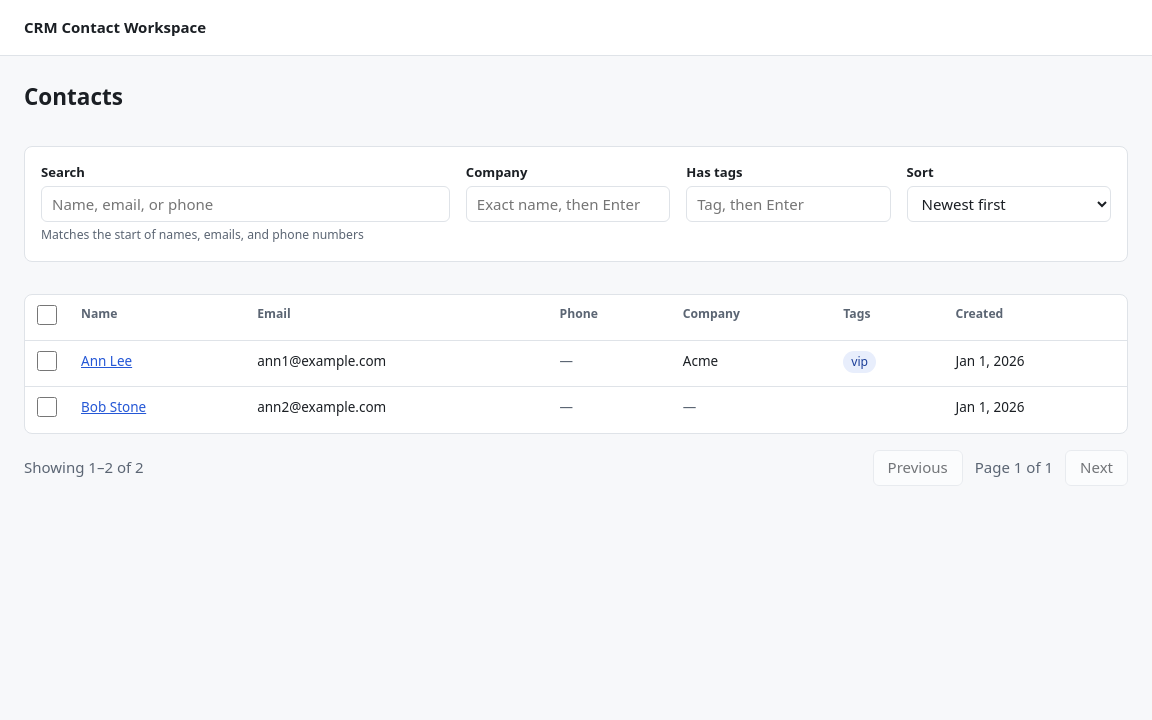
Test: ContactsPage — selection and bulk tagging › selects every contact on the page with the header checkbox
Click the checkbox named "Select all contacts on this page" at (47, 315), box [37,305,57,325]
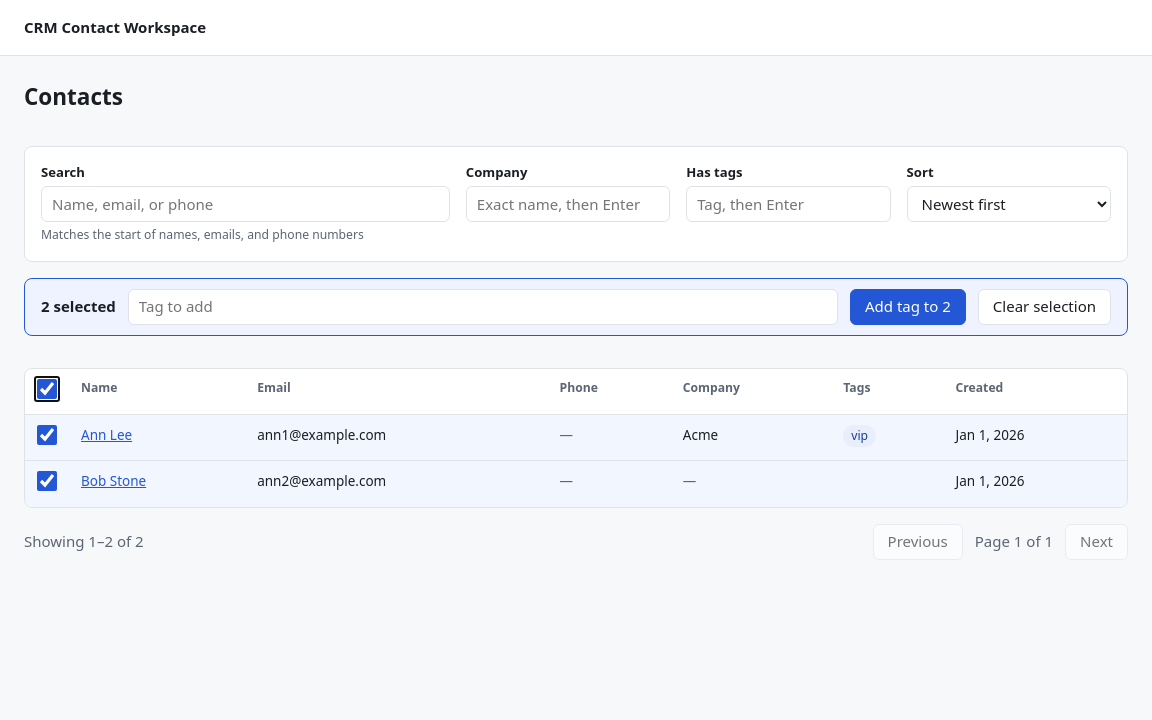
Result: the text "2 selected" is shown at [41,296,116,318]
